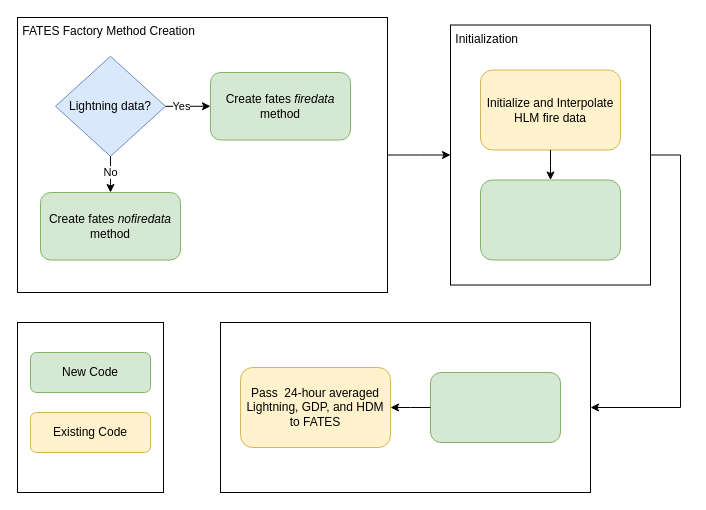
Some shapes in this 706 by 510 pixel diagram are drawn without their labels. Each missing label, with the box of its shape:
Dynamics Update Step: (220, 322, 590, 492)
Extract lightning data and update accumulation buffer: (430, 372, 560, 442)
Initialize FATES accumulation buffer via FATES fire methods: (480, 179, 620, 260)
Legend: (16, 322, 164, 492)
